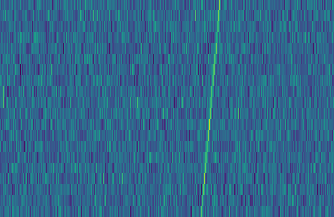signal: (197, 0, 225, 217)
